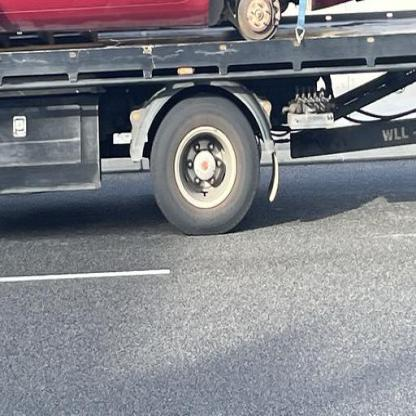Tire: (150, 95, 260, 236)
